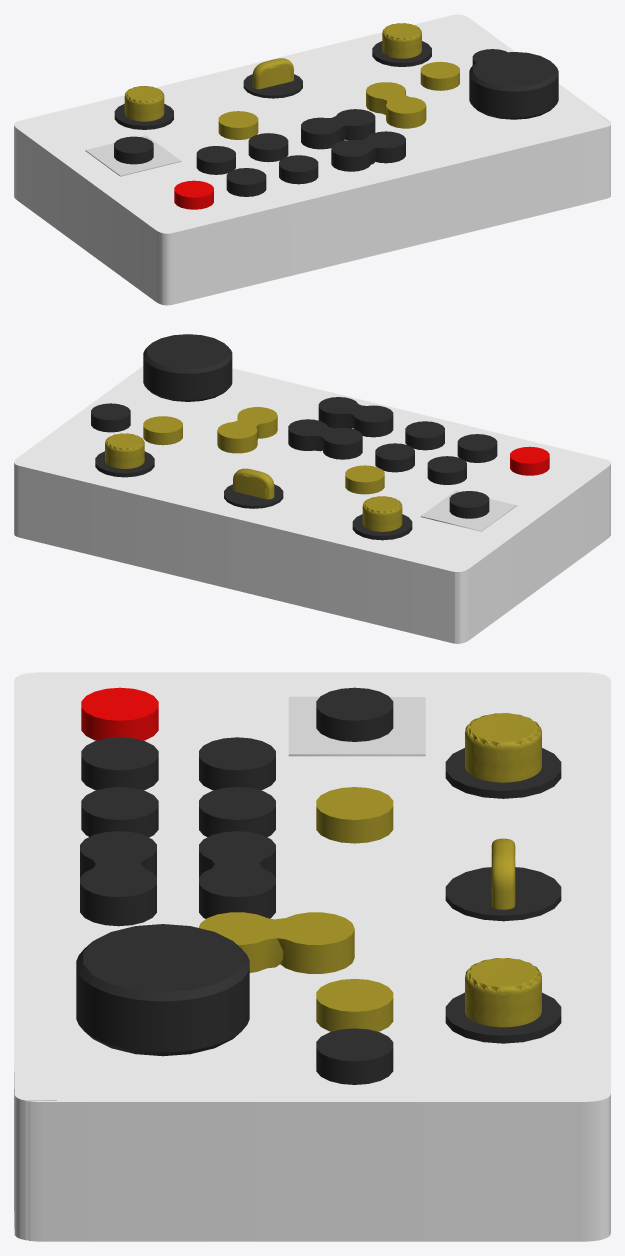
File: right side final.FBX
3 views of the same model, one above another, from view 1: azimuth 30°, elevation 25°; view 2: azimuth 150°, elevation 25°; view 3: azimuth 270°, elevation 25° (orthographic). The views are drawn at different scales.
Parts seen in each view (by area): view 1: Control panel, Cylinder008, Top middle button, Bottom middle button, rotated middle button, Box001, Cylinder006, Cylinder010, Cylinder003 (-ii), Cylinder005 (i-), button (under i-), Box002 (+8 smaller); view 2: Control panel, Cylinder008, Bottom middle button, Top middle button, rotated middle button, Box001, Cylinder006, Cylinder010, Cylinder003 (-ii), button (under i-), left button (under big button), Cylinder005 (i-) (+9 smaller); view 3: Control panel, Cylinder008, rotated middle button, Top middle button, Bottom middle button, Box001, Cylinder006, Cylinder010, Cylinder002, left button (under big button), button (under i-), button (under stop) (+9 smaller).
Boxes of the visible parts, left/top/right/bottom form: Control panel: left=14, top=14, right=610, bottom=305; Cylinder008: left=469, top=52, right=558, bottom=119; Top middle button: left=331, top=131, right=405, bottom=171; Bottom middle button: left=301, top=109, right=375, bottom=149; rotated middle button: left=366, top=82, right=426, bottom=128; Box001: left=85, top=135, right=181, bottom=176; Cylinder006: left=124, top=86, right=164, bottom=121; Cylinder010: left=382, top=23, right=421, bottom=58; Cylinder003 (-ii): left=226, top=168, right=266, bottom=196; Cylinder005 (i-): left=248, top=133, right=288, bottom=162; button (under i-): left=218, top=111, right=258, bottom=139; Box002: left=252, top=58, right=293, bottom=89; Control panel: left=14, top=366, right=610, bottom=643; Cylinder008: left=143, top=334, right=232, bottom=401; Bottom middle button: left=288, top=419, right=362, bottom=459; Top middle button: left=318, top=397, right=393, bottom=437; rotated middle button: left=217, top=407, right=277, bottom=453; Box001: left=420, top=490, right=516, bottom=531; Cylinder006: left=362, top=496, right=402, bottom=531; Cylinder010: left=105, top=433, right=144, bottom=468; Cylinder003 (-ii): left=457, top=434, right=497, bottom=462; button (under i-): left=345, top=465, right=384, bottom=494; left button (under big button): left=91, top=403, right=130, bottom=432; Cylinder005 (i-): left=375, top=443, right=414, bottom=472; Control panel: left=14, top=672, right=610, bottom=1241; Cylinder008: left=76, top=924, right=249, bottom=1056; rotated middle button: left=198, top=912, right=354, bottom=973; Top middle button: left=80, top=831, right=156, bottom=926; Bottom middle button: left=199, top=831, right=275, bottom=918; Box001: left=288, top=696, right=425, bottom=756; Cylinder006: left=465, top=713, right=541, bottom=782; Cylinder010: left=465, top=958, right=541, bottom=1027; Cylinder002: left=445, top=867, right=561, bottom=921; left button (under big button): left=316, top=1028, right=393, bottom=1084; button (under i-): left=316, top=787, right=393, bottom=843; button (under stop): left=316, top=687, right=393, bottom=741.
Bounding box in the file's own units: 25.98 × 6.3 × 15.26.
